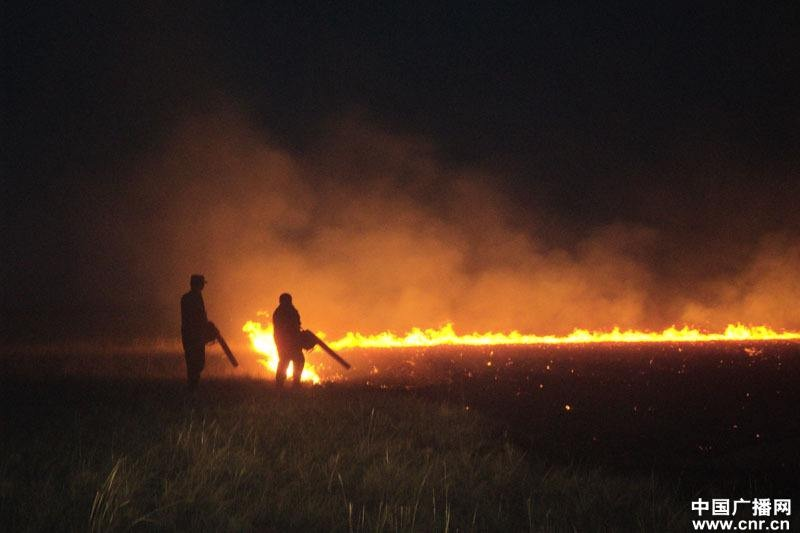fire: (241, 311, 797, 388)
